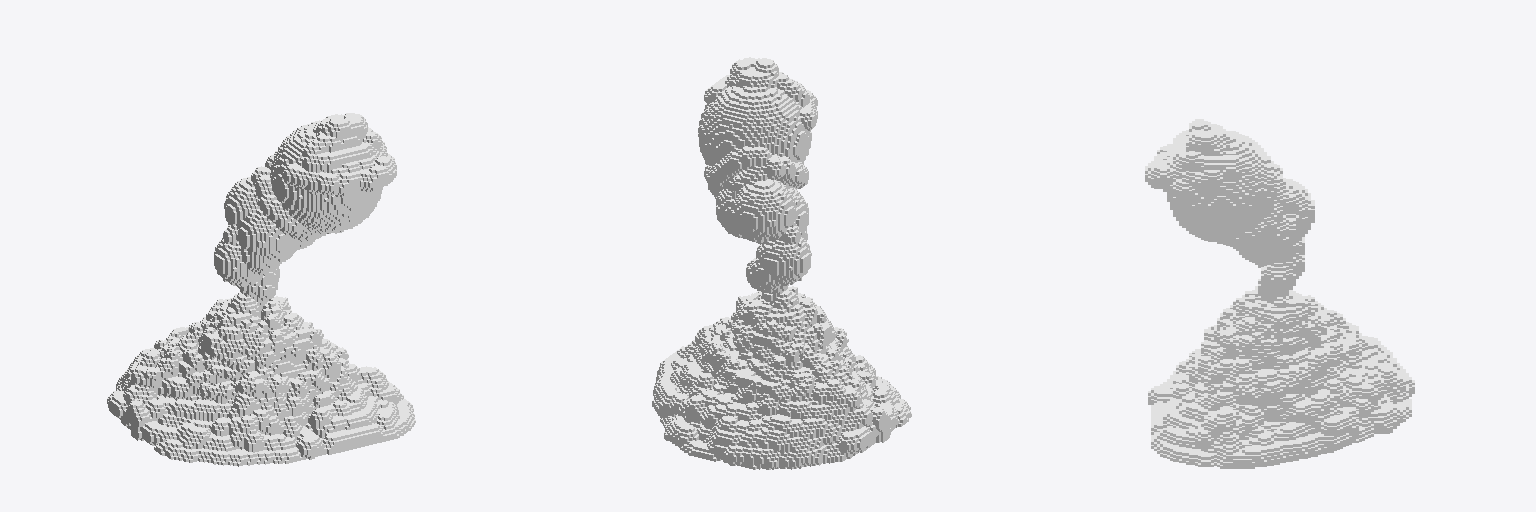
The model's file is popo-v01.obj.
3 views of the same model, side by side, from view 1: azimuth 30°, elevation 25°; view 2: azimuth 150°, elevation 25°; view 3: azimuth 270°, elevation 25° (orthographic).
Parts seen in each view (by area): view 1: object 1; view 2: object 1; view 3: object 1.
Boxes of the visible parts, box(x1,y1,x2,y2) form: object 1: box(107, 113, 415, 466); object 1: box(652, 57, 911, 469); object 1: box(1145, 119, 1414, 468).
Bounding box in the file's own units: 8.8 × 10.8 × 8.6.